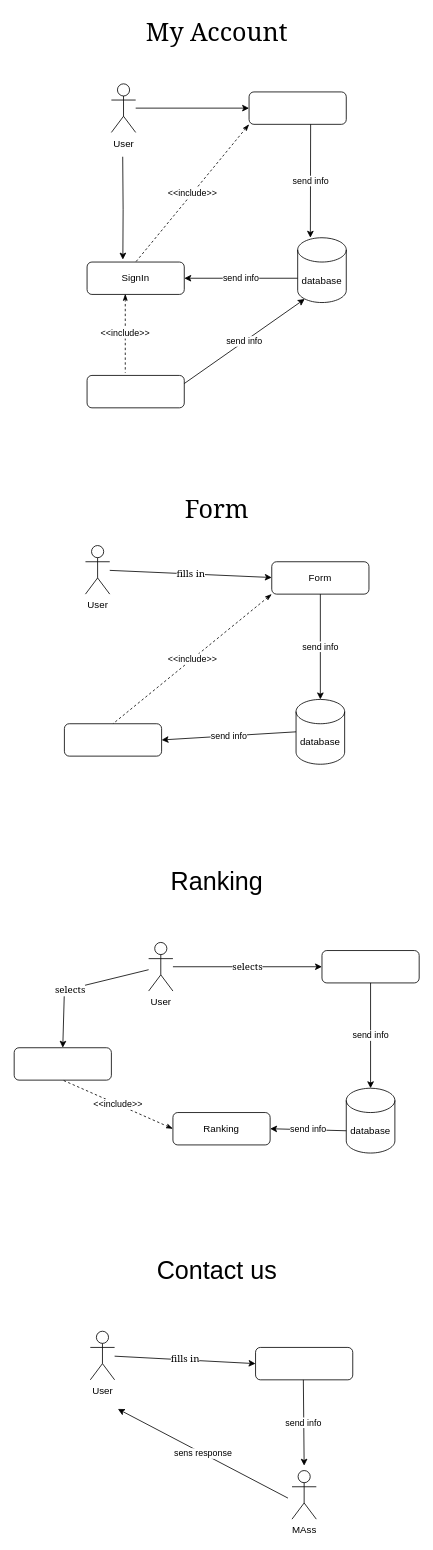
The diagram is 433 pixels wide and 1550 high, and some of its shapes have lost their labels. The box of each missing label's shape, as (x1, y1, x2, y2) in pixels:
Contact Form: (255, 1347, 353, 1380)
option: (321, 950, 419, 983)
Results: (64, 723, 162, 756)
Save as: (13, 1047, 111, 1080)
SignUp: (248, 91, 346, 124)
Update info: (86, 375, 184, 408)
